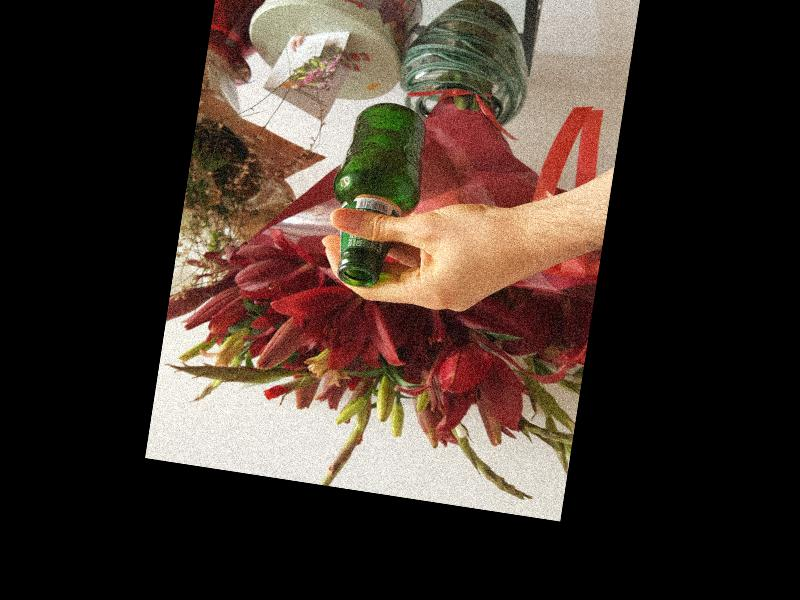Beer: (319, 96, 430, 291)
